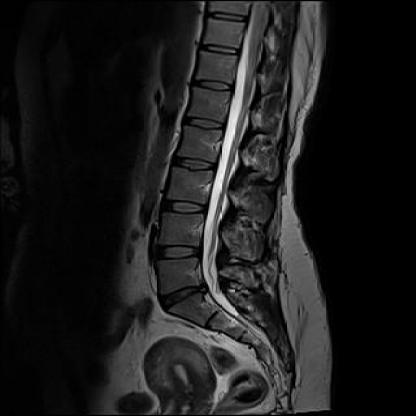Degenerative Disc Diseaserotation: (156, 286, 206, 305)
Disc Herniationrotation: (157, 285, 207, 305)
